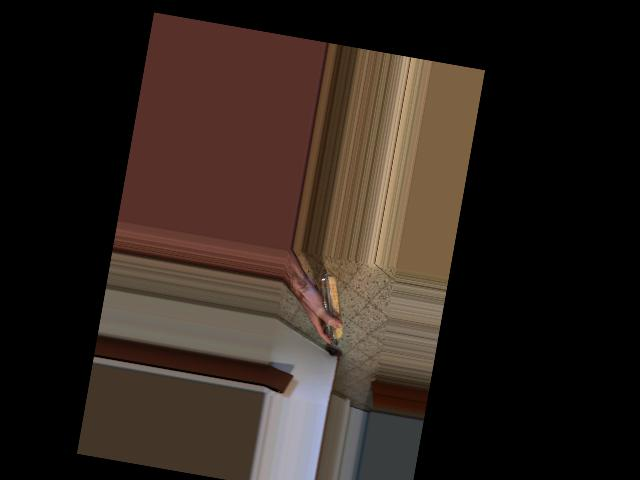cheese: (292, 277, 359, 350)
